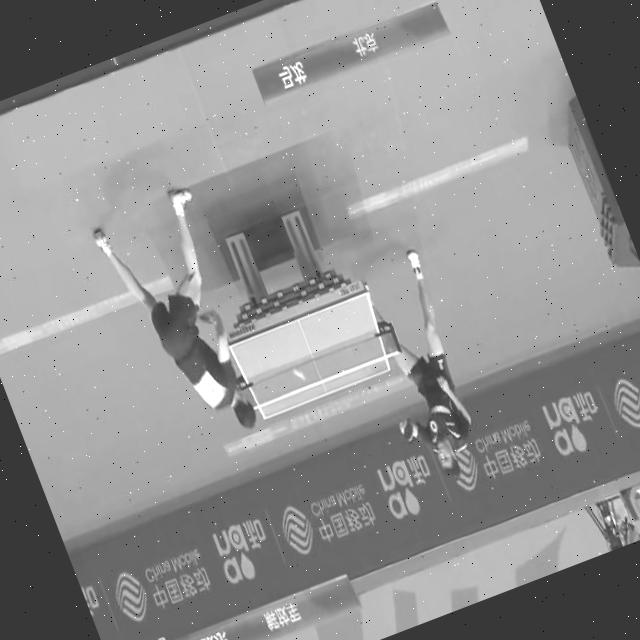ping-pong-ball: (288, 366, 306, 386)
